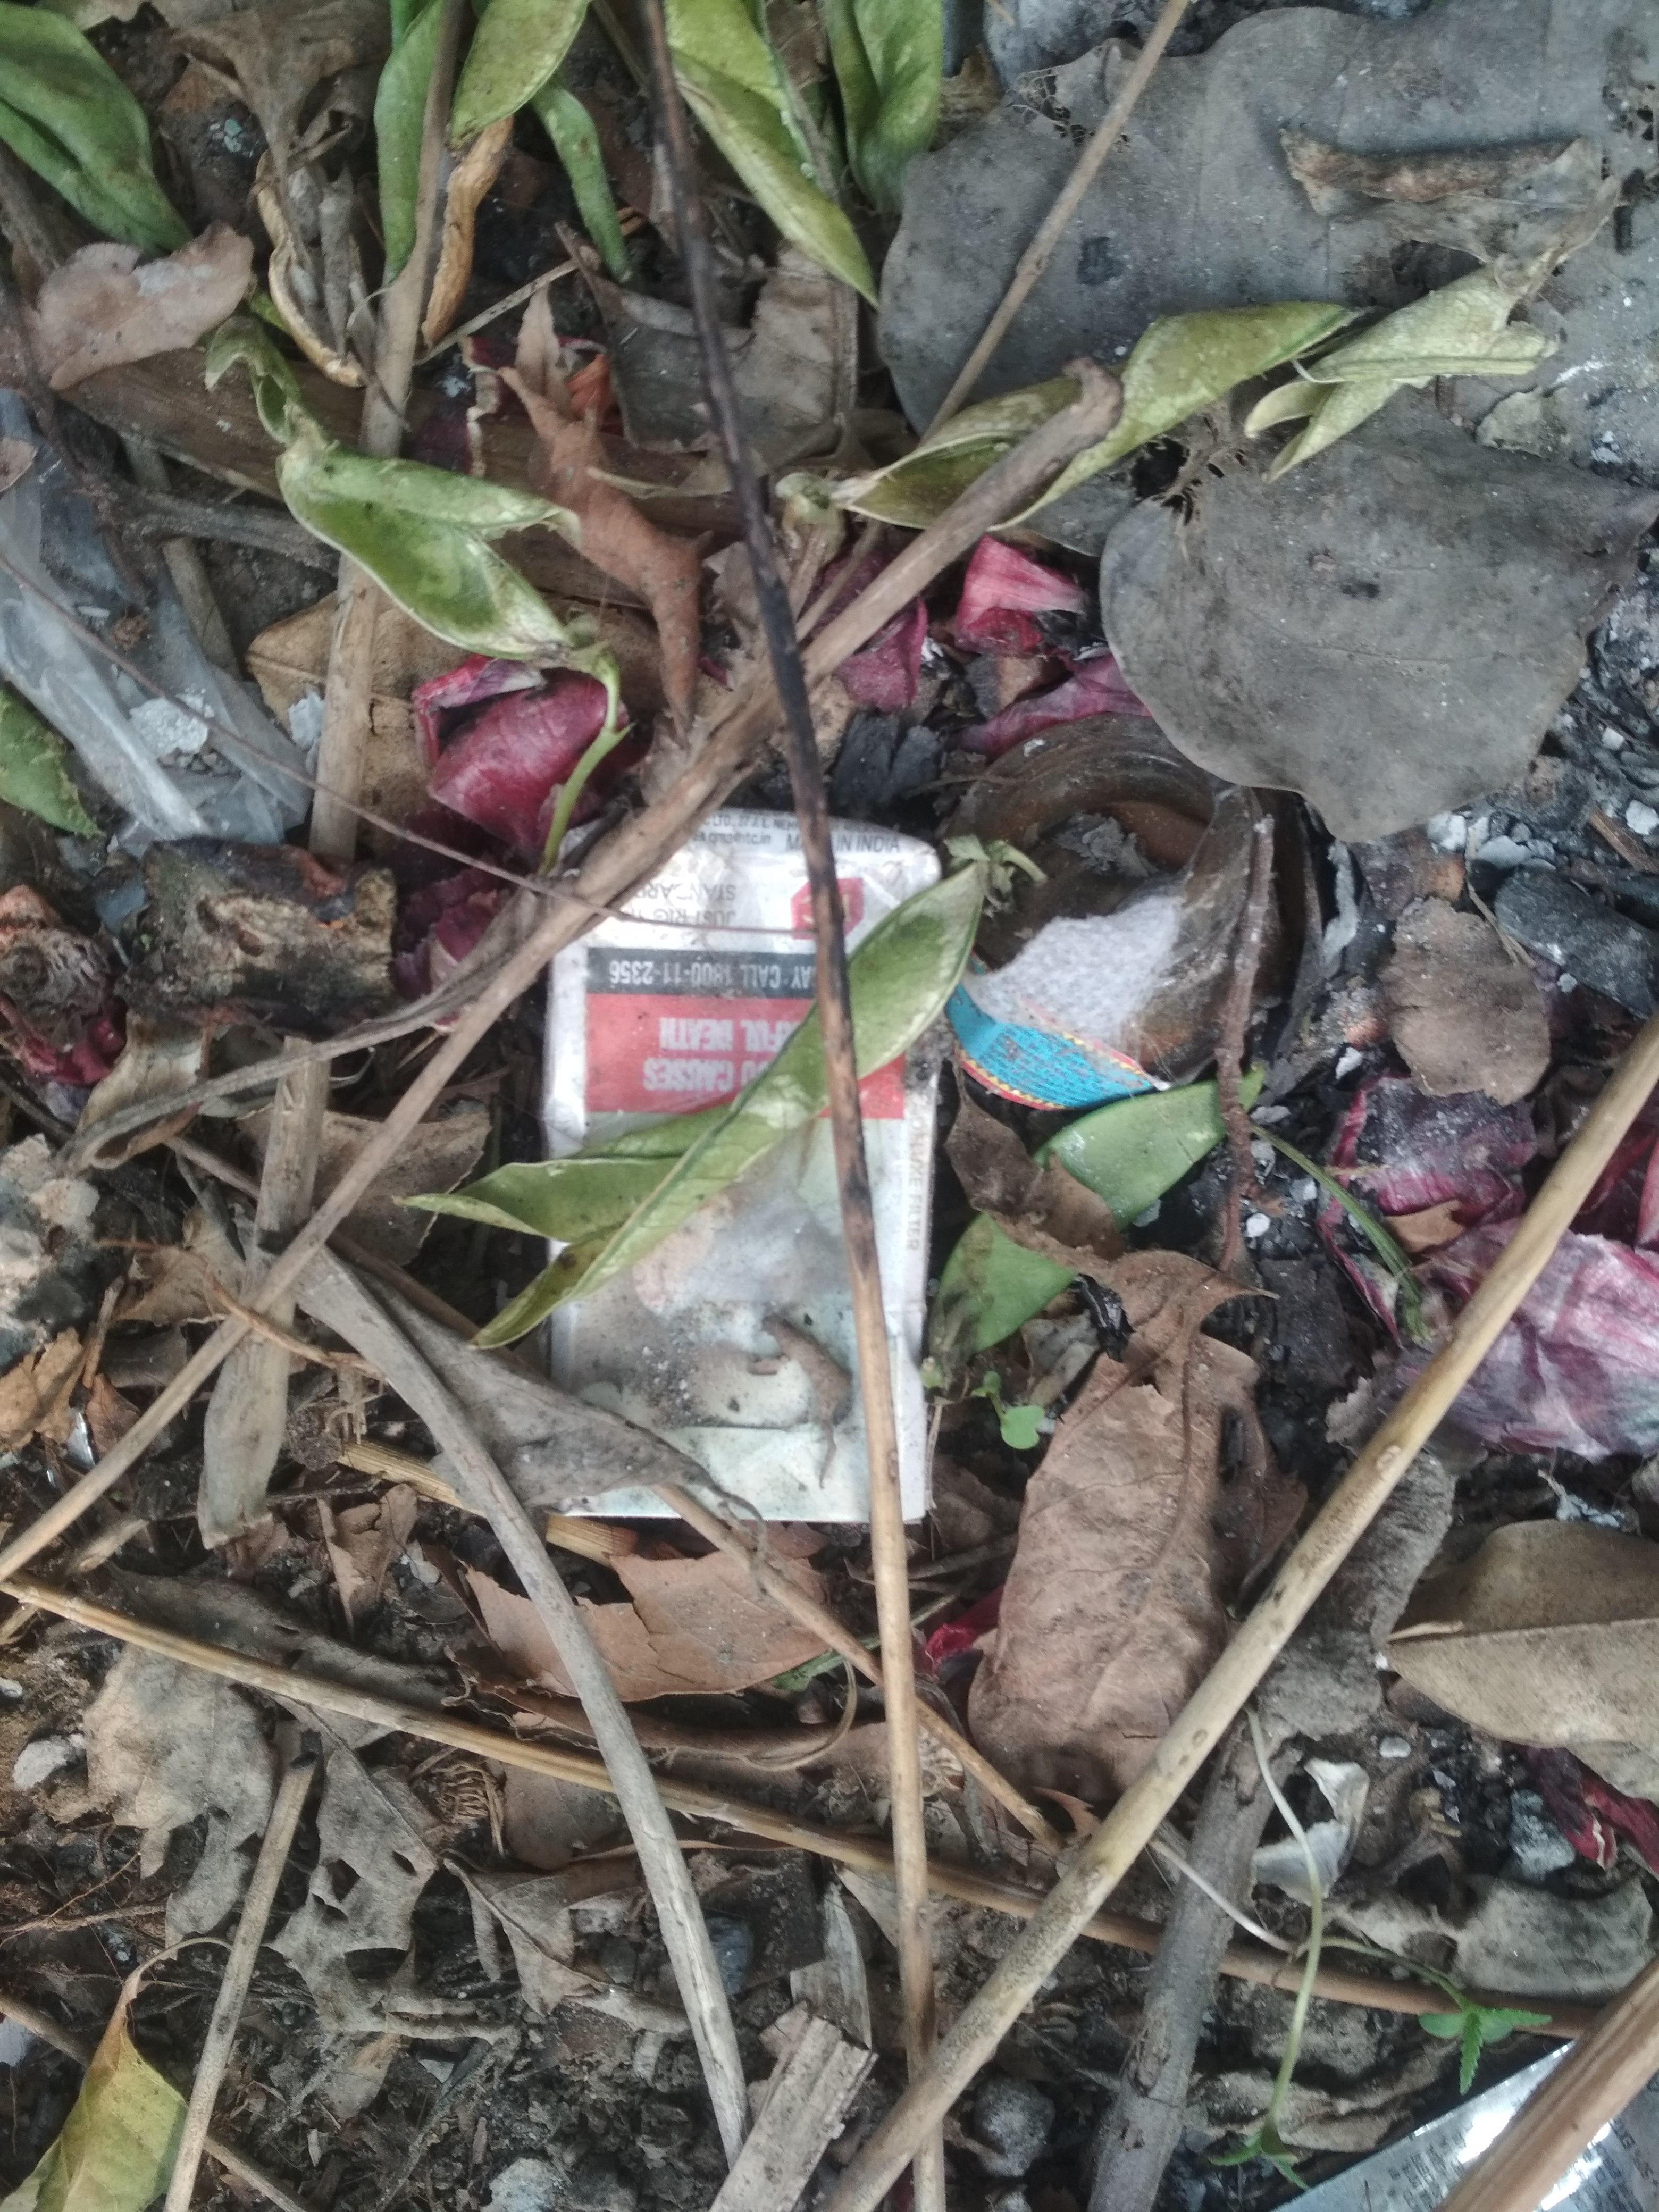trash: (505, 777, 976, 1547)
